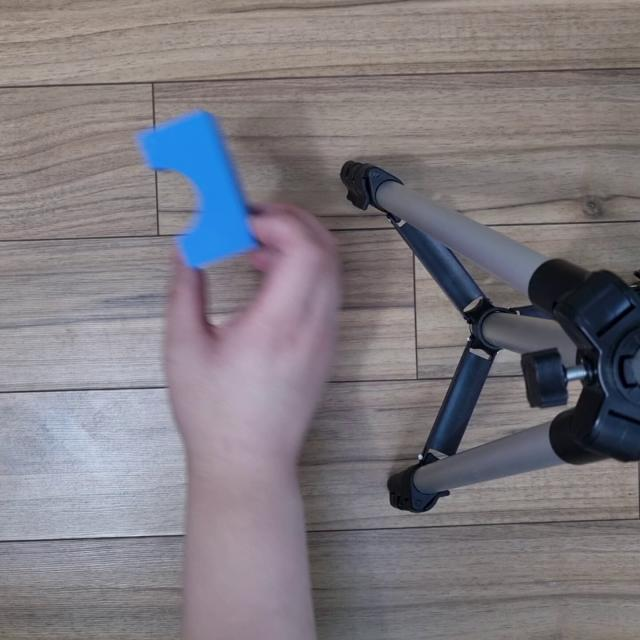block: (133, 103, 260, 271)
hand: (174, 191, 361, 475)
